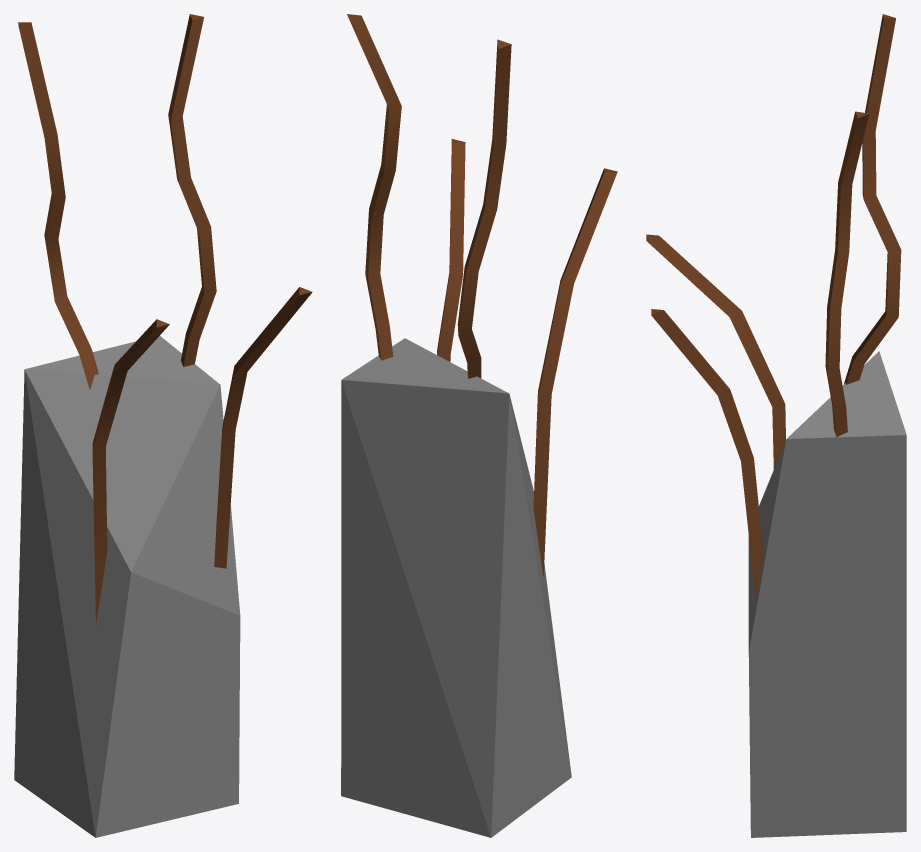
Rendered from SM_pillar_broken_03.fbx.
The picture shows the model from 3 angles, left to right: view 1: azimuth 30°, elevation 25°; view 2: azimuth 150°, elevation 25°; view 3: azimuth 270°, elevation 25°; orthographic projection. The views are drawn at different scales.
Parts seen in each view (by area): view 1: Object054; view 2: Object054; view 3: Object054.
Boxes of the visible parts, x1,y1,x2,y2 form: Object054: [14, 14, 312, 837]; Object054: [341, 14, 617, 837]; Object054: [646, 14, 906, 837].
Bounding box in the file's own units: 31.1 × 129 × 40.61.
